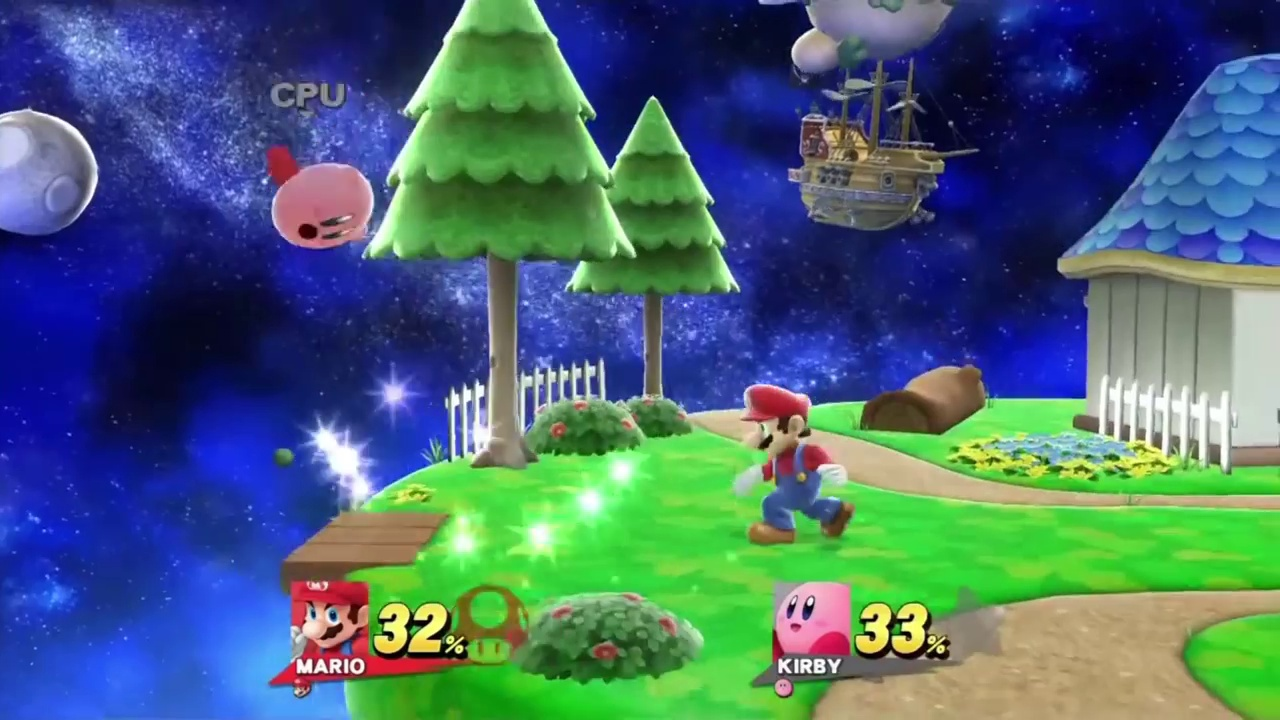Mario: (734, 386, 856, 545)
